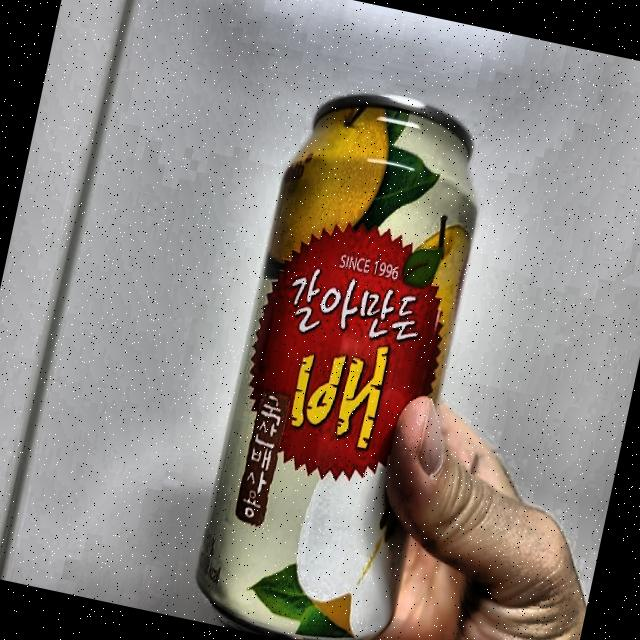galamandeunbae: (191, 85, 465, 640)
